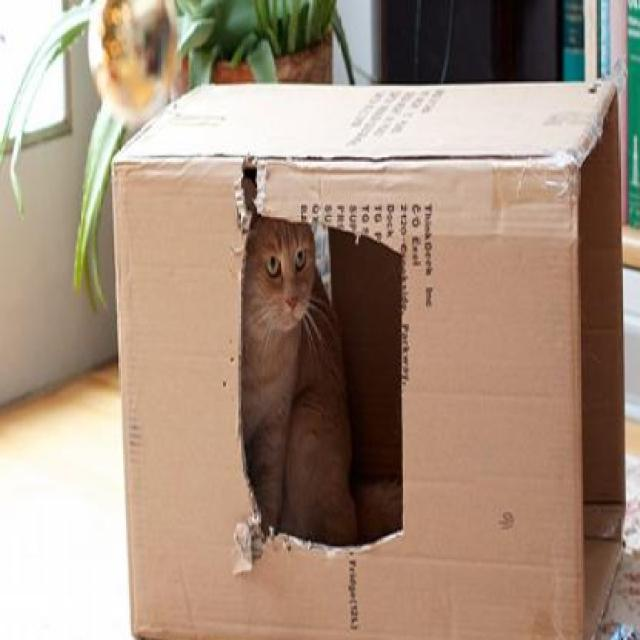box: (100, 56, 629, 640)
